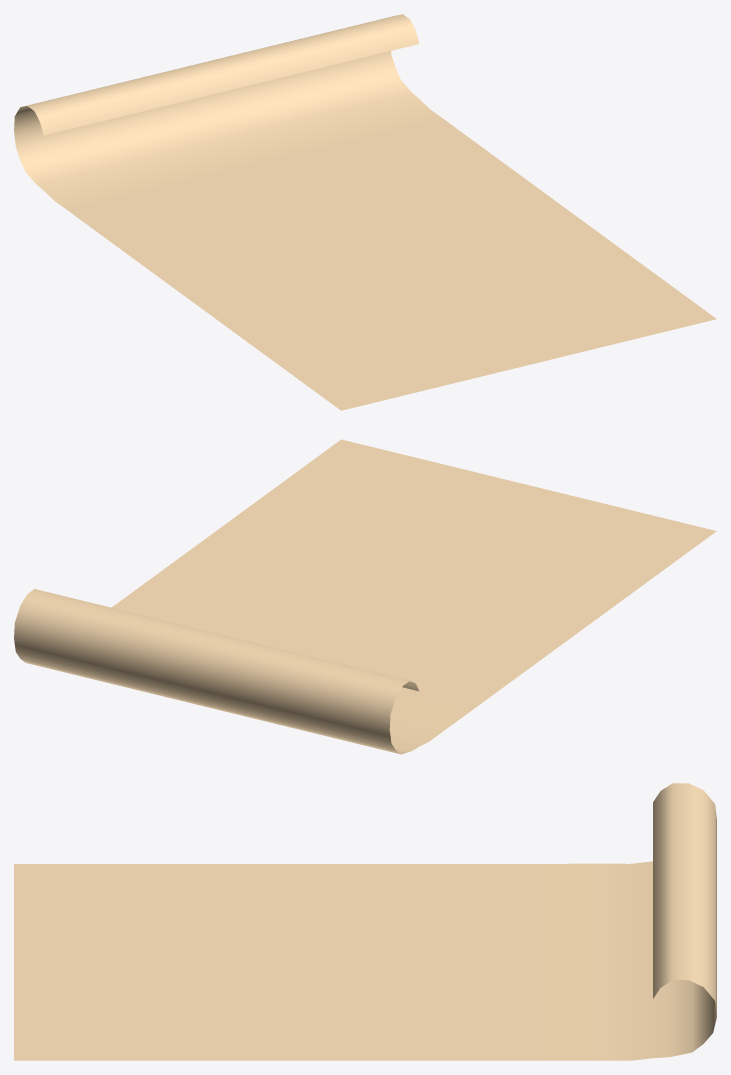
Rendered from Map.fbx.
3 views of the same model, one above another, from view 1: azimuth 30°, elevation 25°; view 2: azimuth 150°, elevation 25°; view 3: azimuth 270°, elevation 25° (orthographic). The views are drawn at different scales.
Visible parts, largest first — view 1: Plane; view 2: Plane; view 3: Plane.
Part boxes in pixels (x1=…): Plane: x1=14, y1=14, x2=716, y2=410; Plane: x1=14, y1=439, x2=716, y2=754; Plane: x1=14, y1=783, x2=716, y2=1060.
Size of the model in its own units: 425 by 81.19 by 641.
